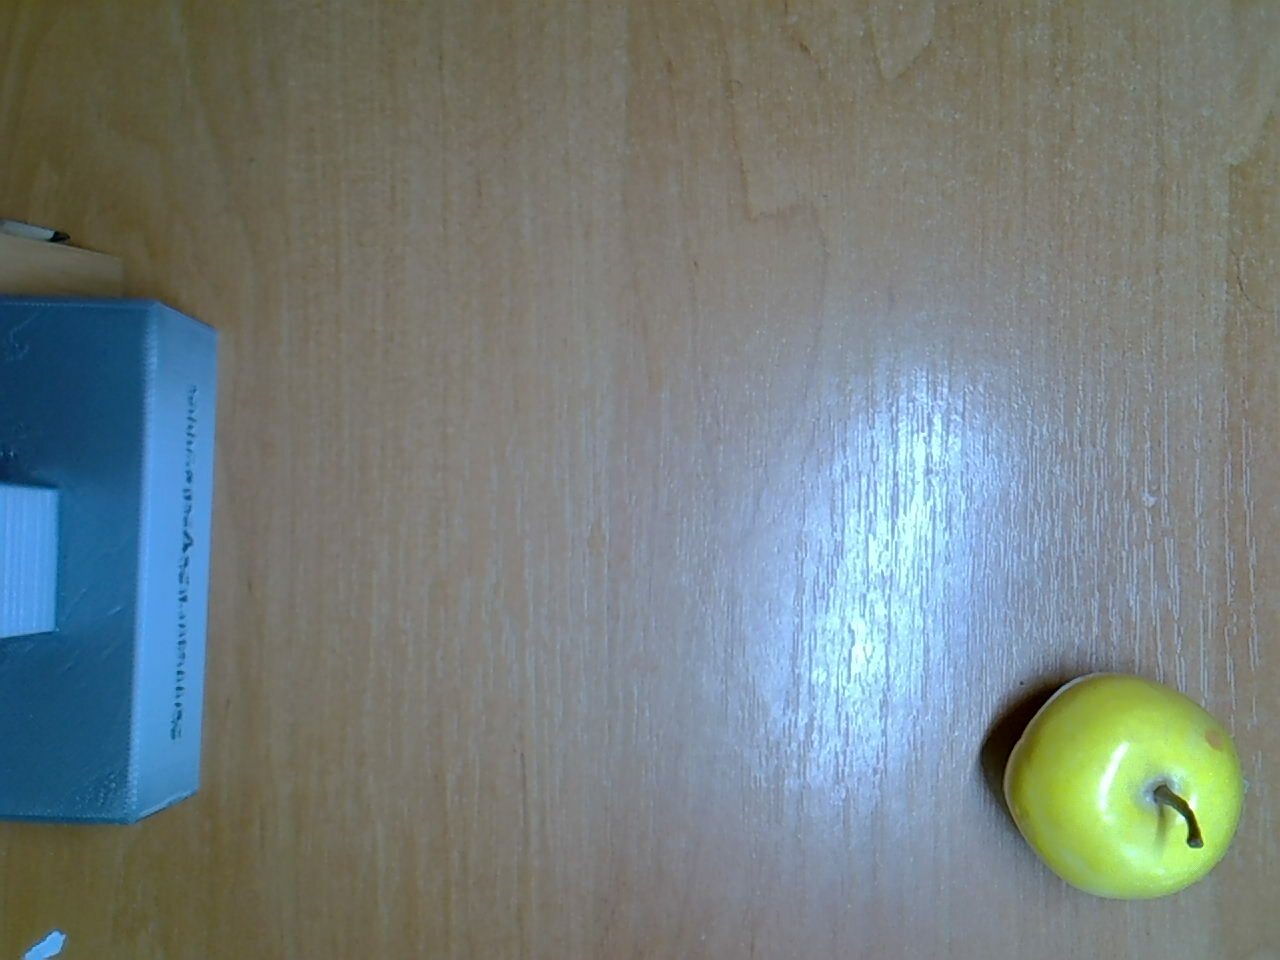apple: (996, 669, 1248, 902)
